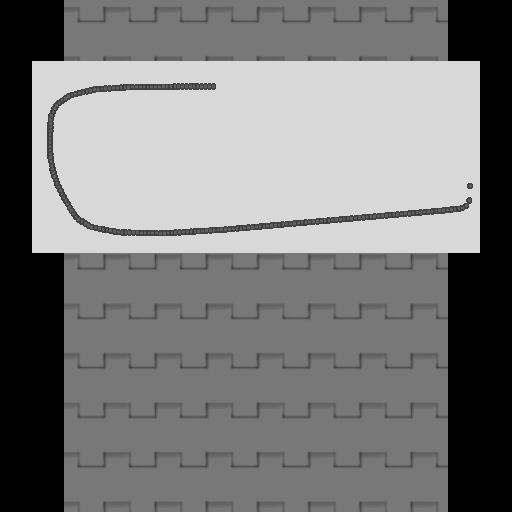Defect: (214, 74, 460, 134)
